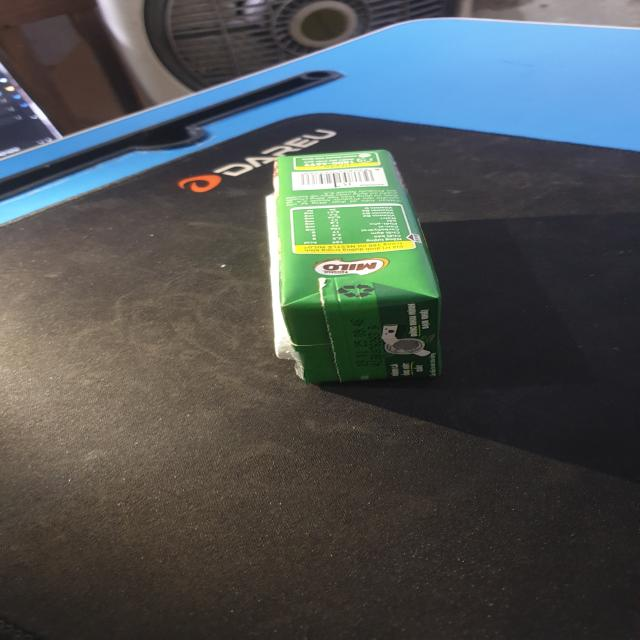Milo: (273, 149, 447, 386)
